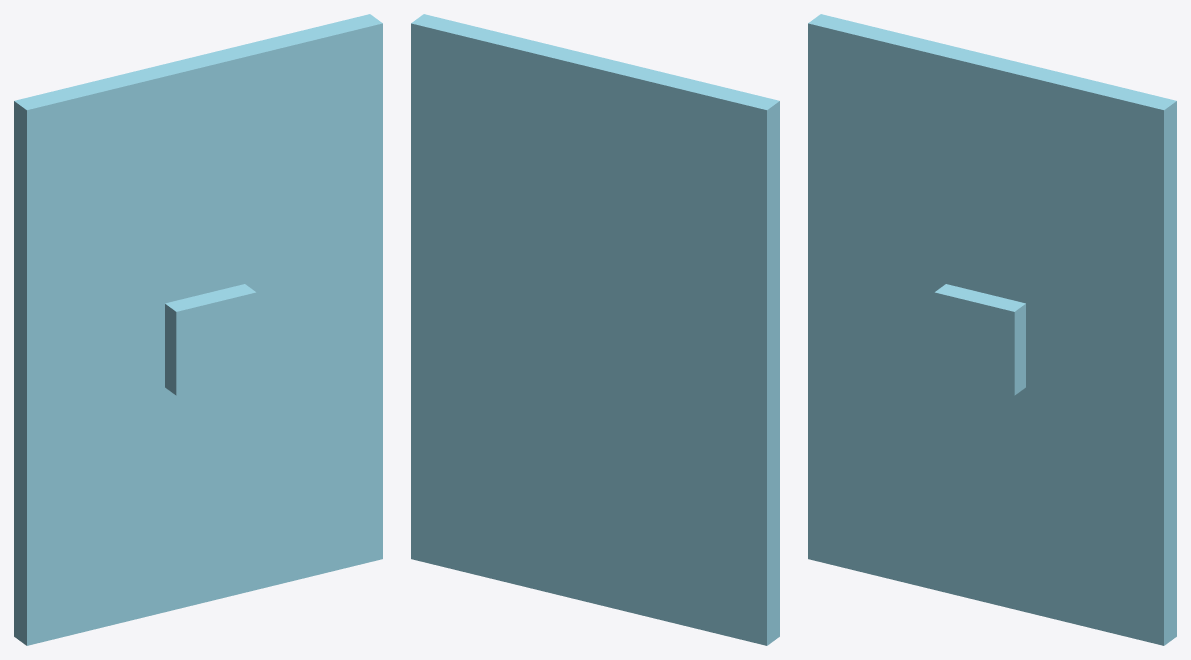
Rendered from frost_aegis.glb.
The picture shows the model from 3 angles, left to right: view 1: azimuth 30°, elevation 25°; view 2: azimuth 150°, elevation 25°; view 3: azimuth 330°, elevation 25°; orthographic projection.
Visible parts, largest first — view 1: frost_aegis; view 2: frost_aegis; view 3: frost_aegis.
Boxes of the visible parts, left/top/right/bottom form: frost_aegis: left=14, top=14, right=382, bottom=645; frost_aegis: left=411, top=14, right=779, bottom=645; frost_aegis: left=808, top=14, right=1176, bottom=645.
Size of the model in its own units: 0.8 by 1.15 by 0.095.
